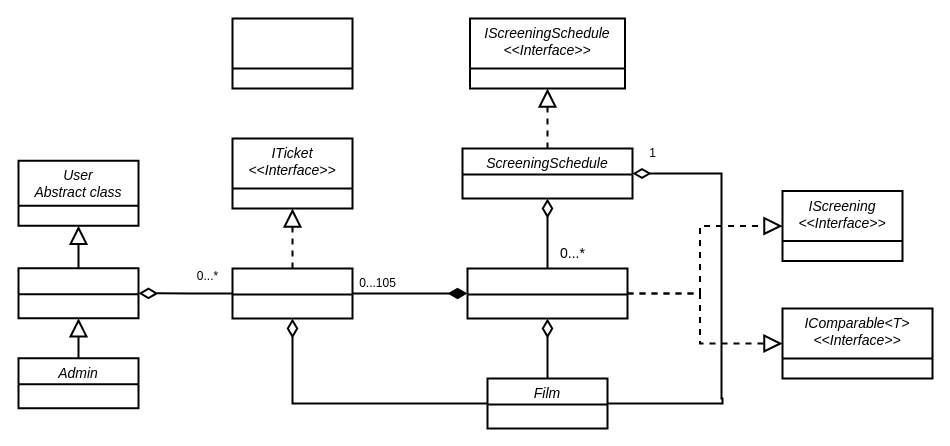
Some shapes in this 950 by 446 pixel diagram are drawn without their labels. Each missing label, with the box of its shape:
RegisteredUser: (17, 267, 139, 319)
Screening: (466, 267, 628, 319)
Ticket: (231, 267, 353, 319)
TicketHelper Static class: (231, 17, 353, 89)
